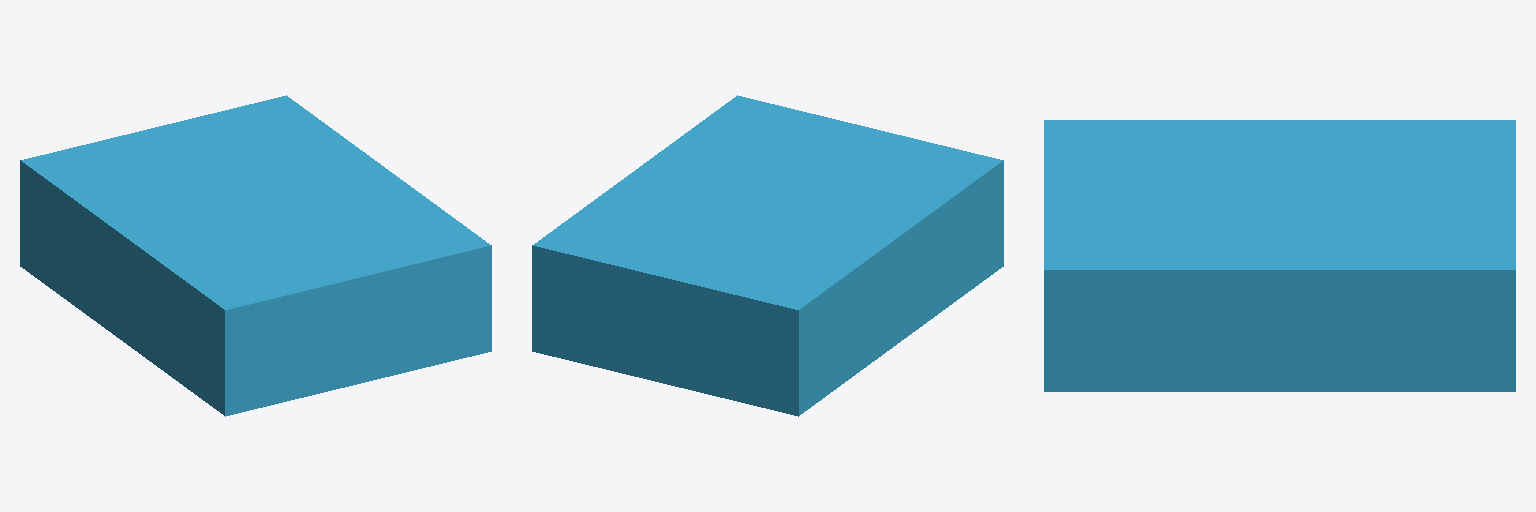
robot.urdf — cube:
<?xml version="1.0"?>
 <robot name="cube">
   <material name="purple">
     <color rgba="0.57647059 0.43921569 0.85882353 1"/>
   </material>
   <material name="yellow">
     <color rgba="1.0 1.0 0.0 1"/>
   </material>
   <material name="blue">
     <color rgba="0.3 0.73137 0.888 1"/>
   </material>
   <link name="base_link">
     <visual>
       <geometry>
         <box size="0.16 0.21343700408935547 0.061"/>
       </geometry>
       <material name="blue"/>
     </visual>
     <inertial>
       <mass value="0"/>
       <inertia ixx="1.0" ixy="0.0" ixz="0.0" iyy="1.0" iyz="0.0" izz="1.0"/>
     </inertial>
   </link>
 </robot>

--- What the picture shows (computed from the rendered views, not written in the file) ---
3 views of the same robot in one strip: view 1: azimuth 30°, elevation 25°; view 2: azimuth 150°, elevation 25°; view 3: azimuth 270°, elevation 25° (orthographic).
Model cube with 1 links and 0 joints (none), rooted at base_link, posed every joint at zero.
Links seen in each view (by area): view 1: base_link; view 2: base_link; view 3: base_link.
Link boxes in pixels (box(x1,y1,x2,y2)): base_link: box(20, 95, 491, 416); base_link: box(532, 95, 1003, 416); base_link: box(1044, 120, 1515, 391).
Bounding box of the posed robot: 0.16 × 0.2134 × 0.061 m (x, y, z).
Geometry: primitives only (box / cylinder / sphere), no mesh files.